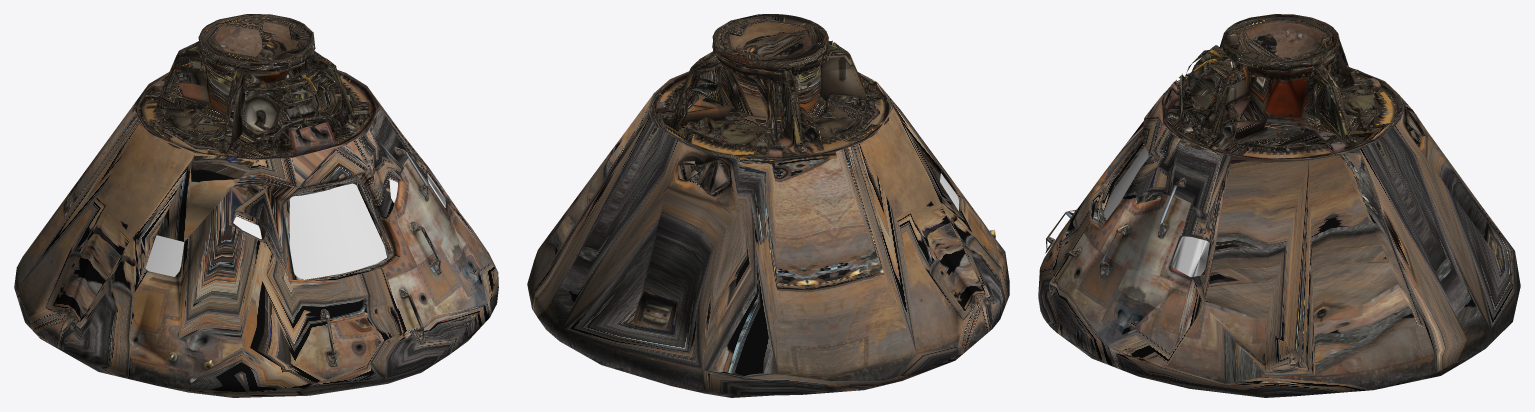
File: usa_apollo11_cm.glb
3 renders of one model, left to right at view 1: azimuth 30°, elevation 25°; view 2: azimuth 150°, elevation 25°; view 3: azimuth 270°, elevation 25°, orthographic.
Size of the model in its own units: 3.88 by 2.72 by 3.88.
3 materials, 2 textured.
